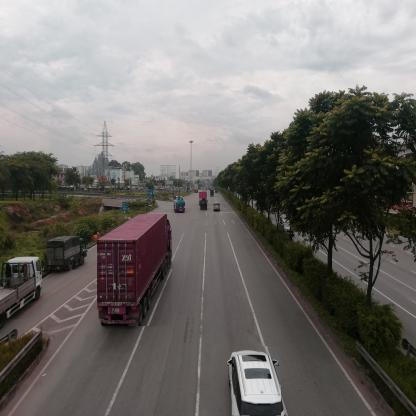car: (233, 347, 282, 416), (215, 205, 221, 215)
container: (98, 215, 173, 327)
truck: (2, 257, 43, 321), (48, 234, 89, 271), (175, 198, 186, 214)
